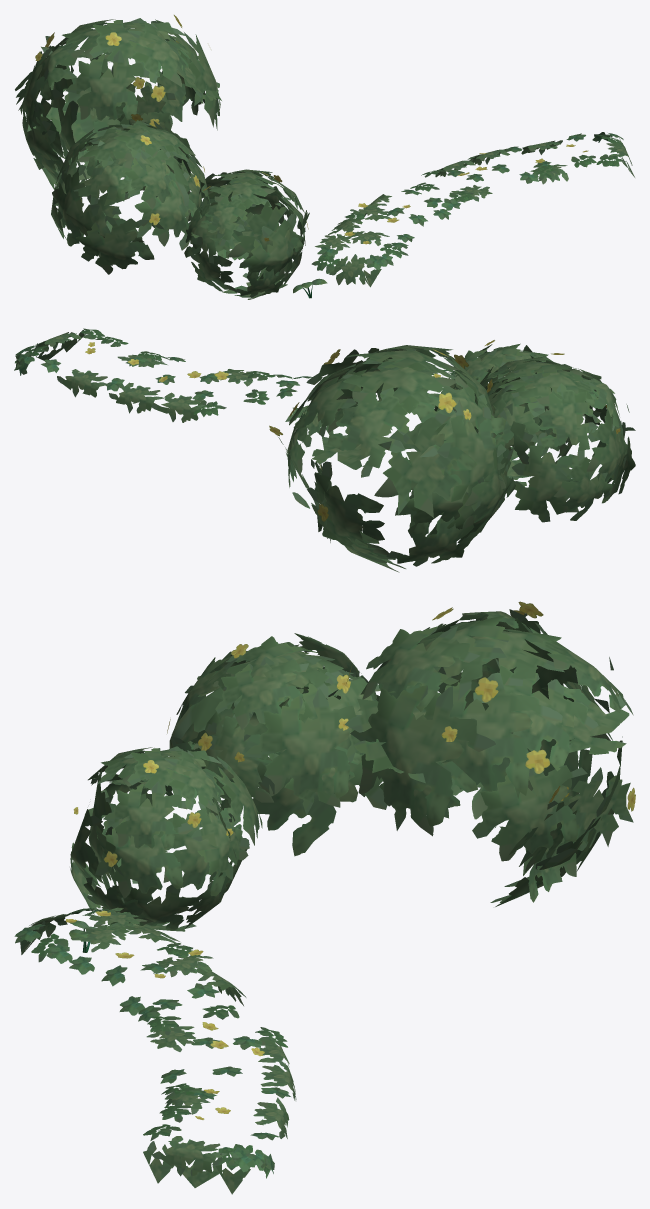
The model's file is pref_sm_beach_bk_pointmol_grassplant05a_lv1.fbx.
3 renders of one model, top to bottom at view 1: azimuth 30°, elevation 25°; view 2: azimuth 150°, elevation 25°; view 3: azimuth 270°, elevation 25°, orthographic. The views are drawn at different scales.
Parts seen in each view (by area): view 1: pref_sm_beach_bk_pointmol_grassplant05a_lv1; view 2: pref_sm_beach_bk_pointmol_grassplant05a_lv1; view 3: pref_sm_beach_bk_pointmol_grassplant05a_lv1.
Boxes of the visible parts, x1,y1,x2,y2 form: pref_sm_beach_bk_pointmol_grassplant05a_lv1: [15, 15, 634, 299]; pref_sm_beach_bk_pointmol_grassplant05a_lv1: [14, 328, 635, 572]; pref_sm_beach_bk_pointmol_grassplant05a_lv1: [14, 601, 635, 1194].
Bounding box in the file's own units: 15.29 × 5.2 × 10.07.
